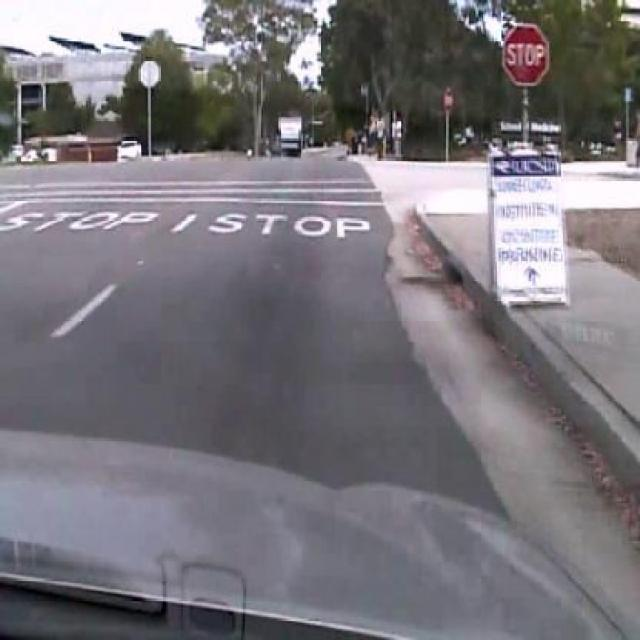Stop: (499, 20, 553, 89)
